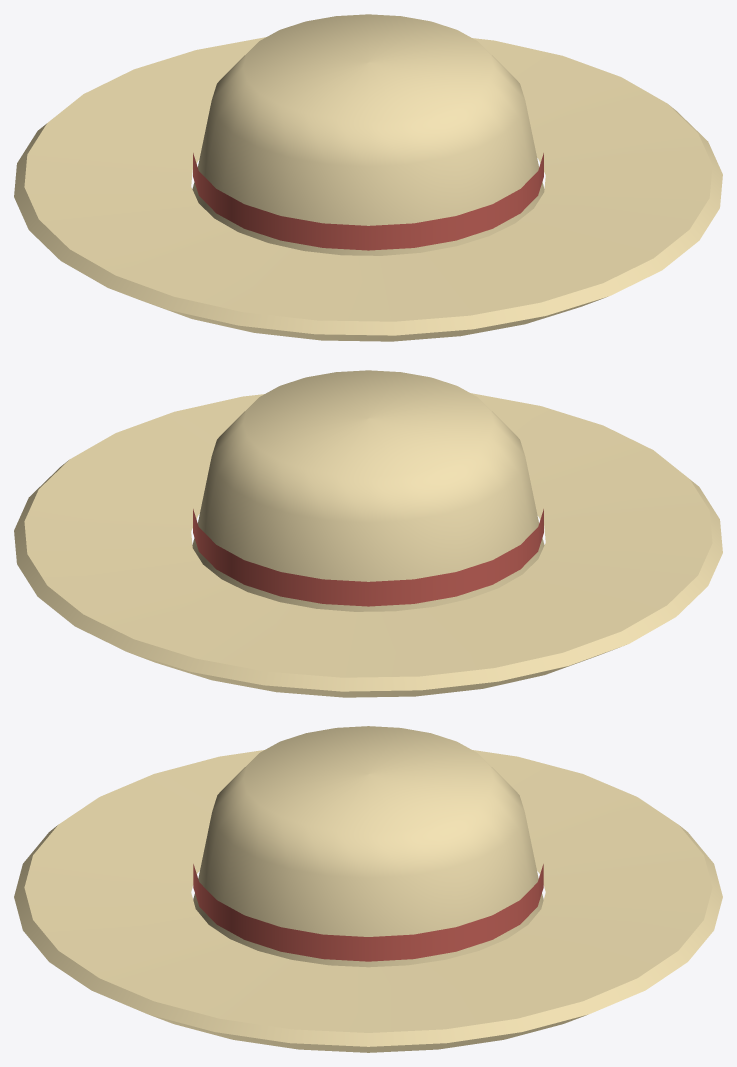
The model's file is hat_straw.glb.
3 views of the same model, one above another, from view 1: azimuth 30°, elevation 25°; view 2: azimuth 150°, elevation 25°; view 3: azimuth 270°, elevation 25° (orthographic).
Parts seen in each view (by area): view 1: Hat; view 2: Hat; view 3: Hat.
Part boxes in pixels (left/top/right/bottom): Hat: left=14, top=14, right=722, bottom=341; Hat: left=14, top=370, right=722, bottom=697; Hat: left=14, top=726, right=722, bottom=1052.
Bounding box in the file's own units: 0.68 × 0.16 × 0.68.
